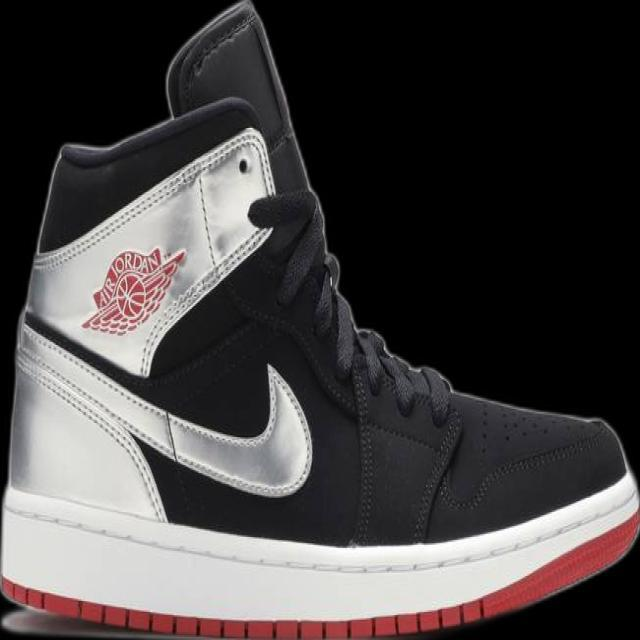J1_InsoleChar: (0, 0, 639, 639)
J1_ShoeLogo: (80, 244, 186, 335)
J1_StitchPattern: (25, 127, 464, 540), (2, 487, 639, 580), (13, 316, 314, 501), (31, 126, 275, 274), (13, 325, 170, 520), (344, 325, 463, 544), (312, 252, 457, 429), (136, 220, 276, 377), (459, 420, 611, 514), (355, 326, 457, 428), (409, 409, 464, 543), (346, 351, 380, 547), (313, 252, 360, 375), (190, 168, 223, 265)
